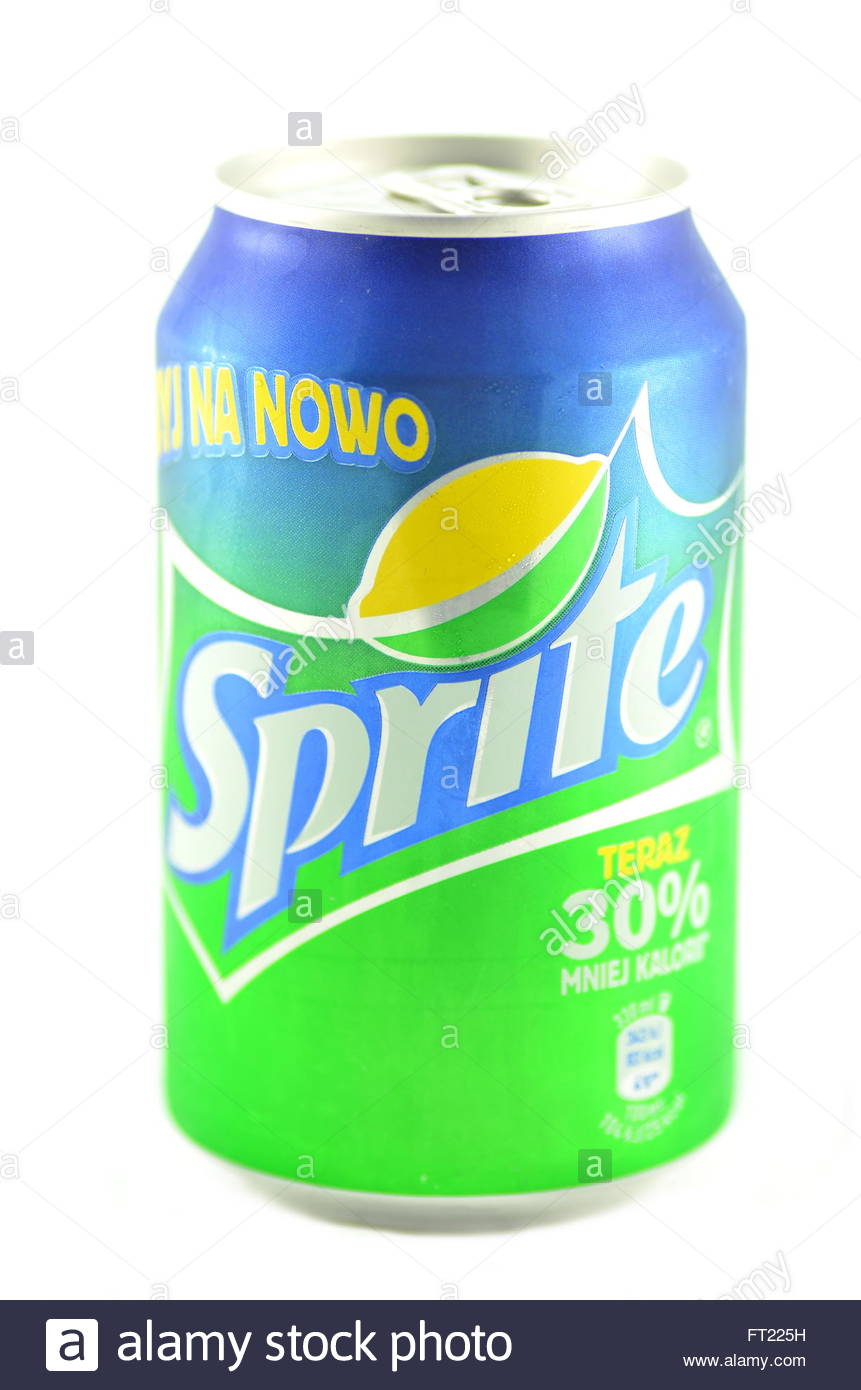sprite_can: (152, 138, 742, 1238)
